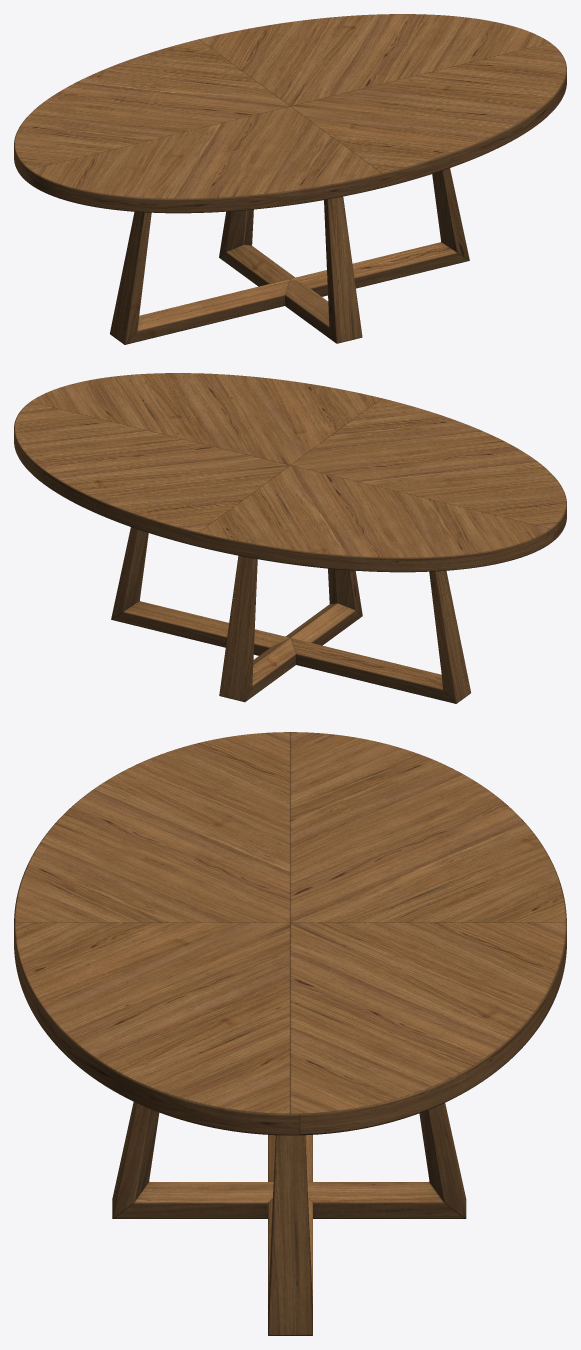
File: Belgrave Coffee table.FBX
The picture shows the model from 3 angles, top to bottom: view 1: azimuth 30°, elevation 25°; view 2: azimuth 150°, elevation 25°; view 3: azimuth 270°, elevation 25°; orthographic projection. The views are drawn at different scales.
Parts seen in each view (by area): view 1: Belgrave Coffee table; view 2: Belgrave Coffee table; view 3: Belgrave Coffee table.
Part boxes in pixels (x1=…): Belgrave Coffee table: x1=14, y1=14, x2=566, y2=344; Belgrave Coffee table: x1=14, y1=373, x2=566, y2=703; Belgrave Coffee table: x1=14, y1=732, x2=566, y2=1335.
Size of what is drawn, in the model's own units: 99.68 by 34.91 by 60.9.
